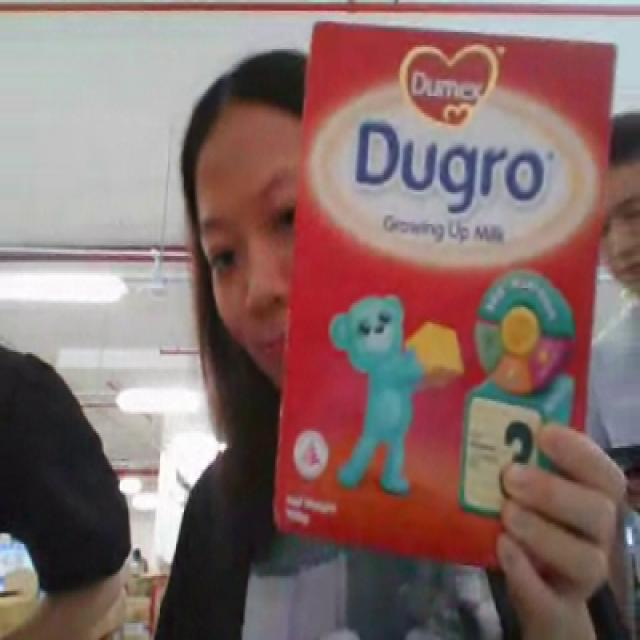object_name: (273, 23, 580, 541)
